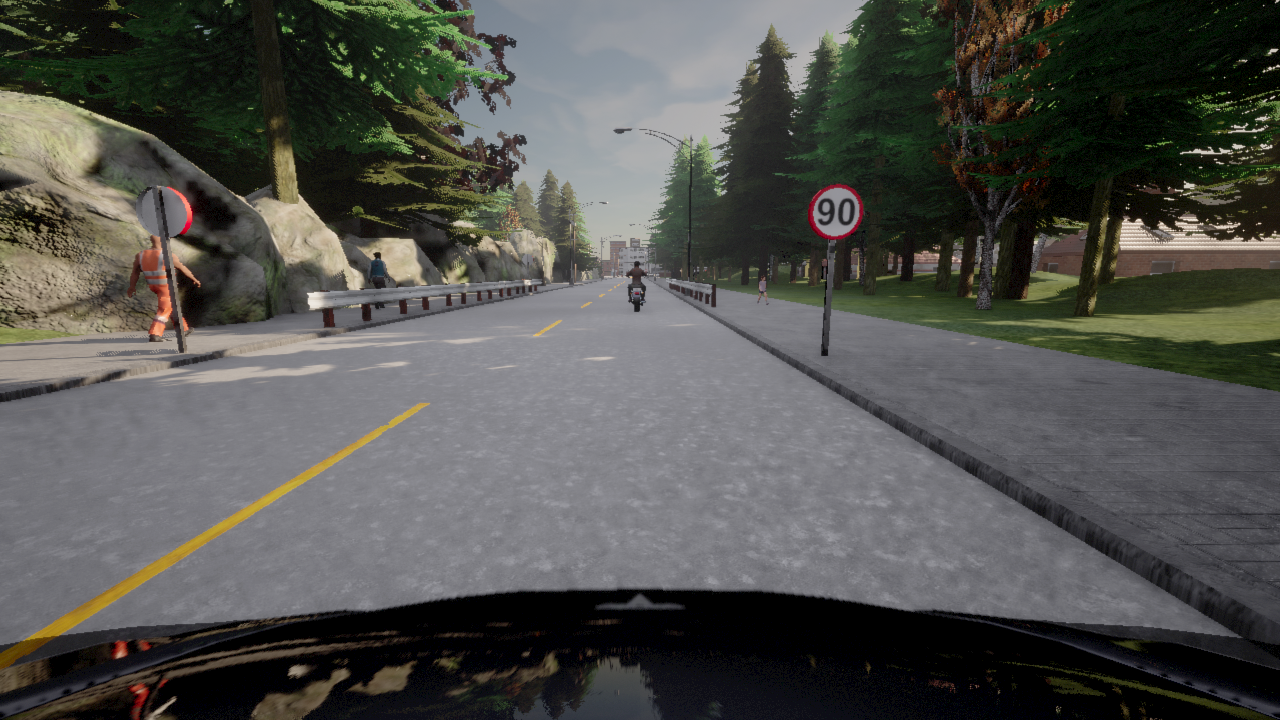cyclist: (0, 588, 1279, 719), (630, 275, 645, 311), (656, 273, 658, 274)
pedestrian: (127, 235, 199, 342), (368, 252, 389, 308), (757, 276, 768, 304)
